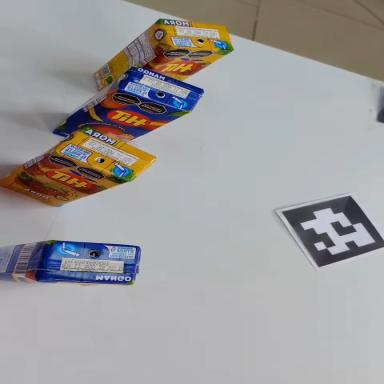HIT-MANGO: (43, 45, 209, 170), (0, 238, 141, 288)
HIT-MORA: (0, 103, 160, 238), (89, 10, 236, 91)
cara_F: (47, 65, 190, 171), (0, 135, 131, 231), (142, 21, 232, 95)
